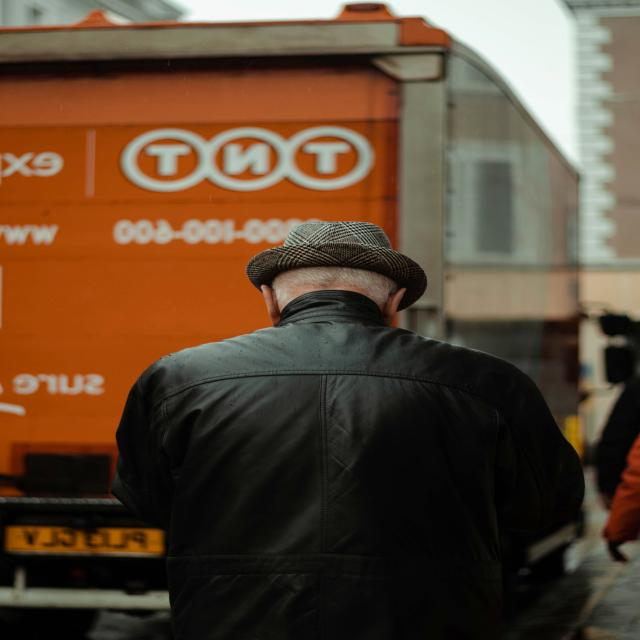adult: (125, 220, 585, 640)
